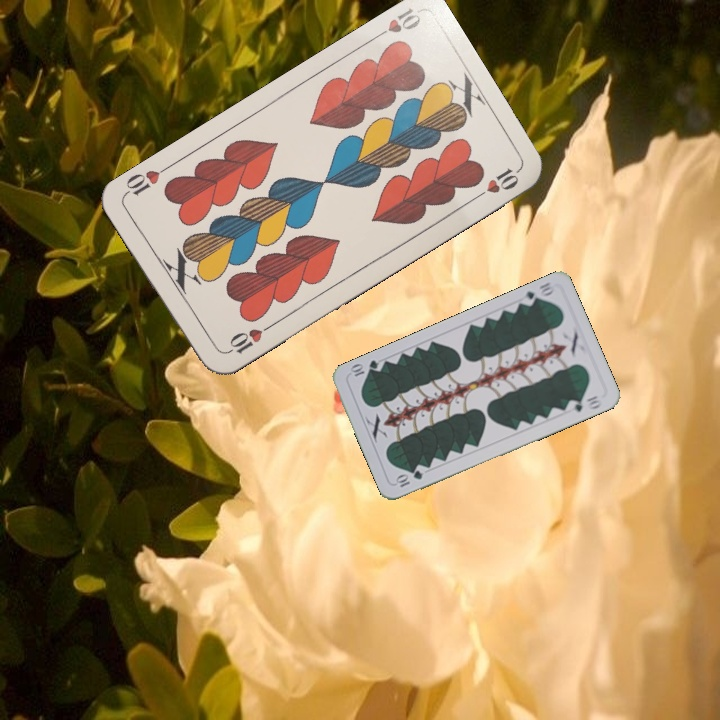G10: (517, 278, 558, 309), (392, 466, 425, 490)
H10: (368, 4, 424, 43), (221, 320, 275, 357)
